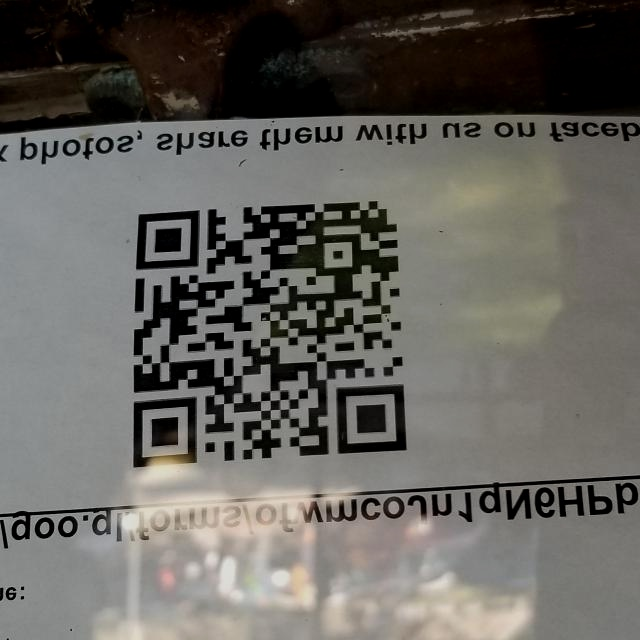qr-code: (120, 190, 413, 487)
